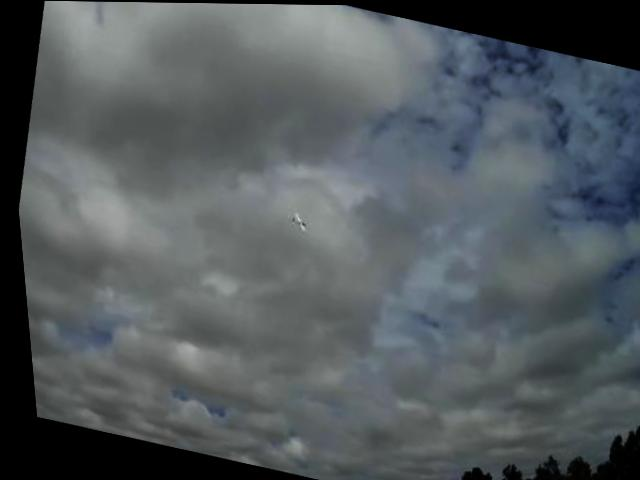uav: (276, 197, 313, 240)
